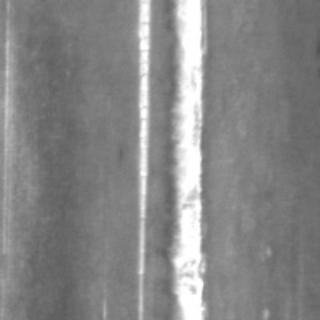scratches: (165, 0, 208, 316), (134, 0, 150, 316)
